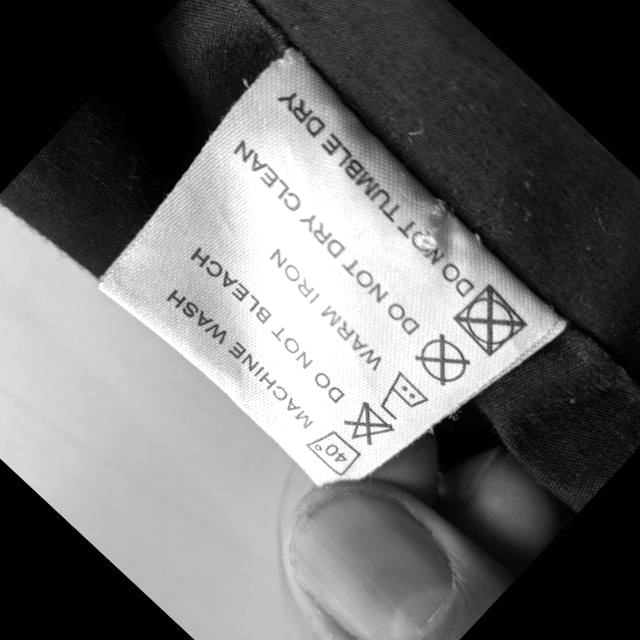40C: (306, 431, 363, 475)
DN_bleach: (343, 403, 396, 447)
DN_dry_clean: (416, 334, 471, 385)
DN_tumble_dry: (455, 284, 528, 356)
iron_medium: (384, 372, 429, 419)
